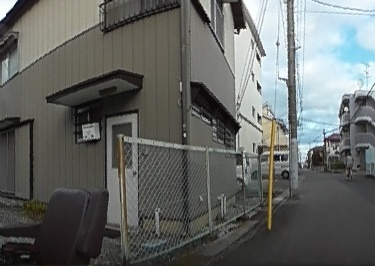person: (344, 150, 353, 177)
